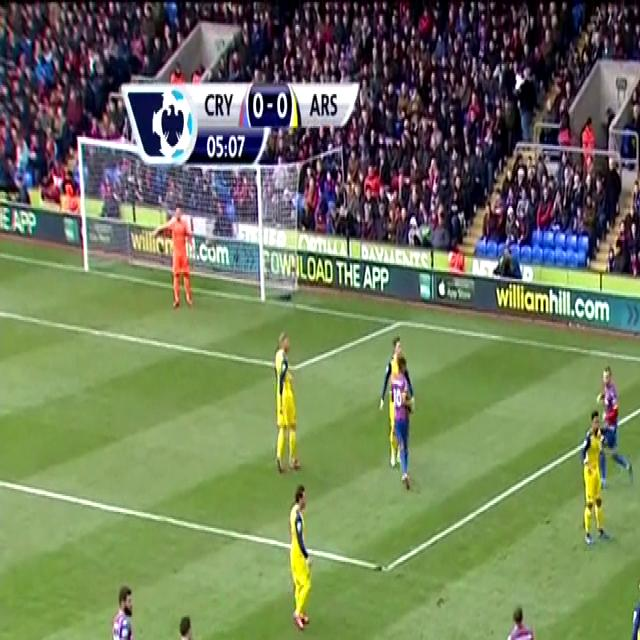goalkeeper: (165, 196, 200, 314)
referee: (165, 611, 220, 640)
soccer-player: (380, 334, 426, 494), (269, 320, 309, 488), (575, 400, 617, 556), (280, 478, 320, 640), (592, 360, 629, 490), (103, 574, 156, 640), (500, 597, 550, 640), (620, 562, 640, 640)
